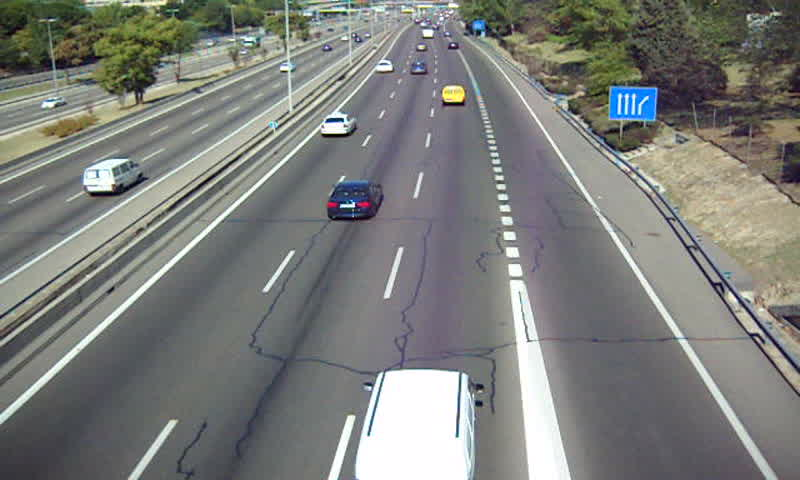car: (326, 180, 381, 222), (319, 114, 356, 136), (408, 60, 428, 76), (374, 60, 393, 74)
van: (354, 368, 475, 480), (442, 85, 465, 107)
